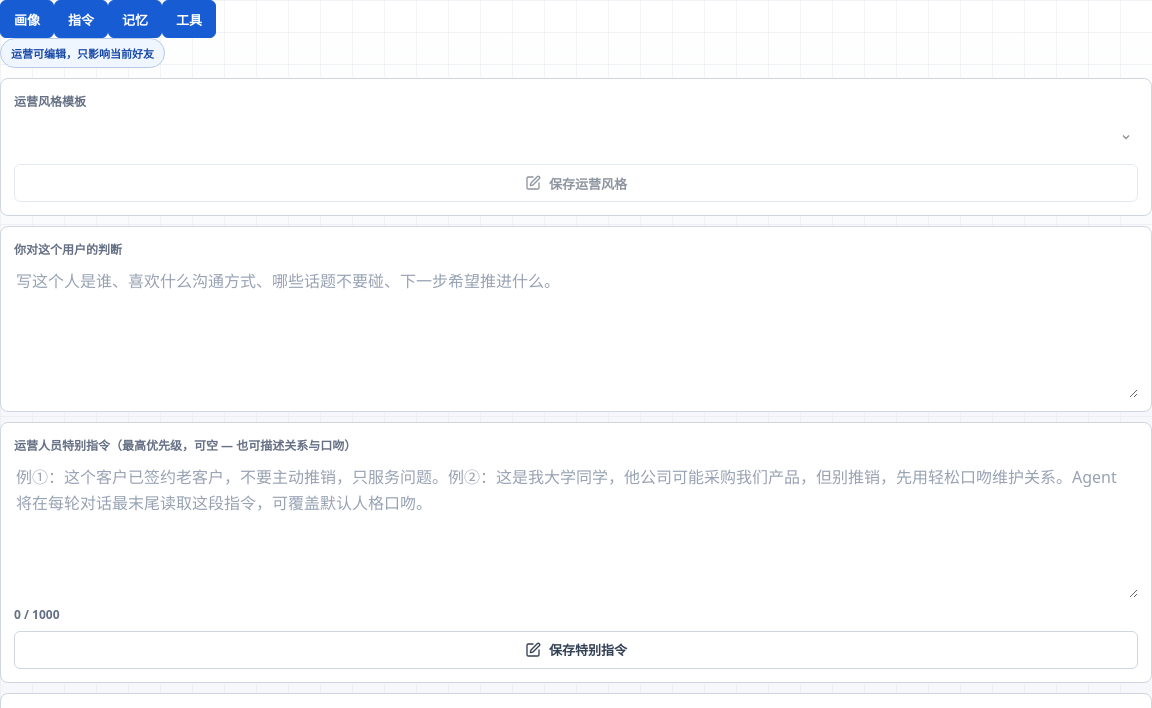
Test case: ConfigureView 4-tab › 影子验证展示运行级与单轮性能诊断
This screenshot has width=1152, height=708.
Click the tab "工具" at [189, 19], box [162, 0, 216, 38]
(page scrolled)
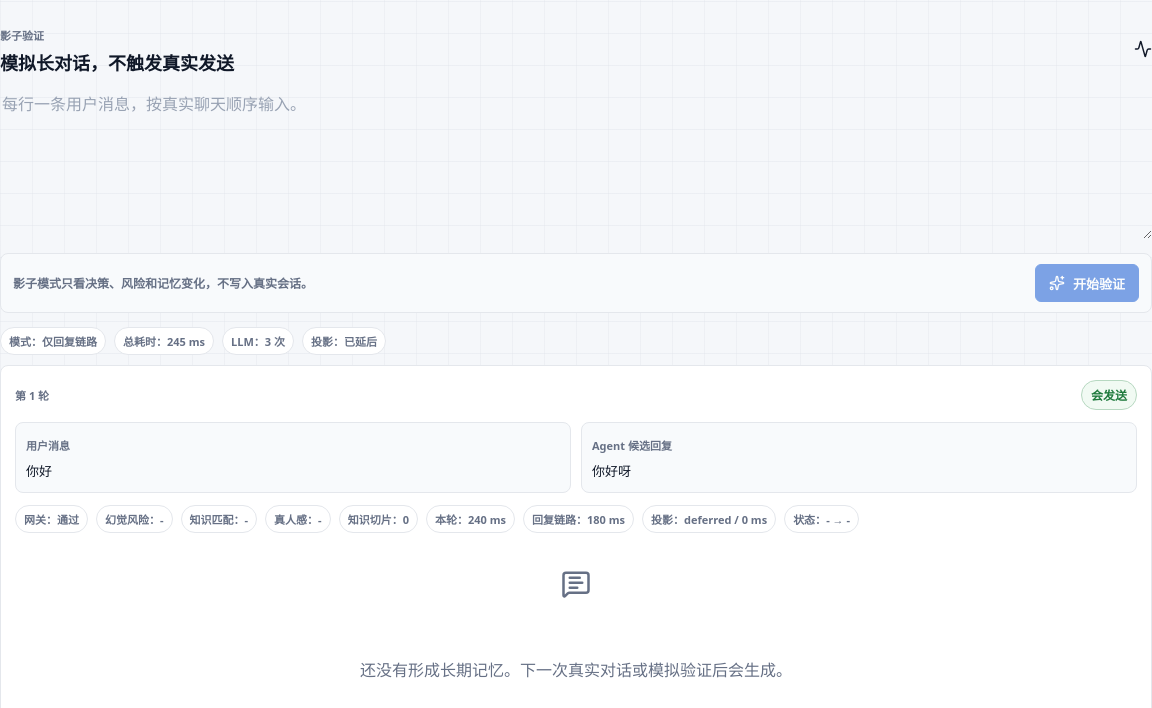
Expected: the text "模式：仅回复链路" is shown, [0, 327, 106, 355]
Expected: the text "总耗时：245 ms" is shown, [114, 327, 214, 355]
Expected: the text "LLM：3 次" is shown, [222, 327, 294, 355]
